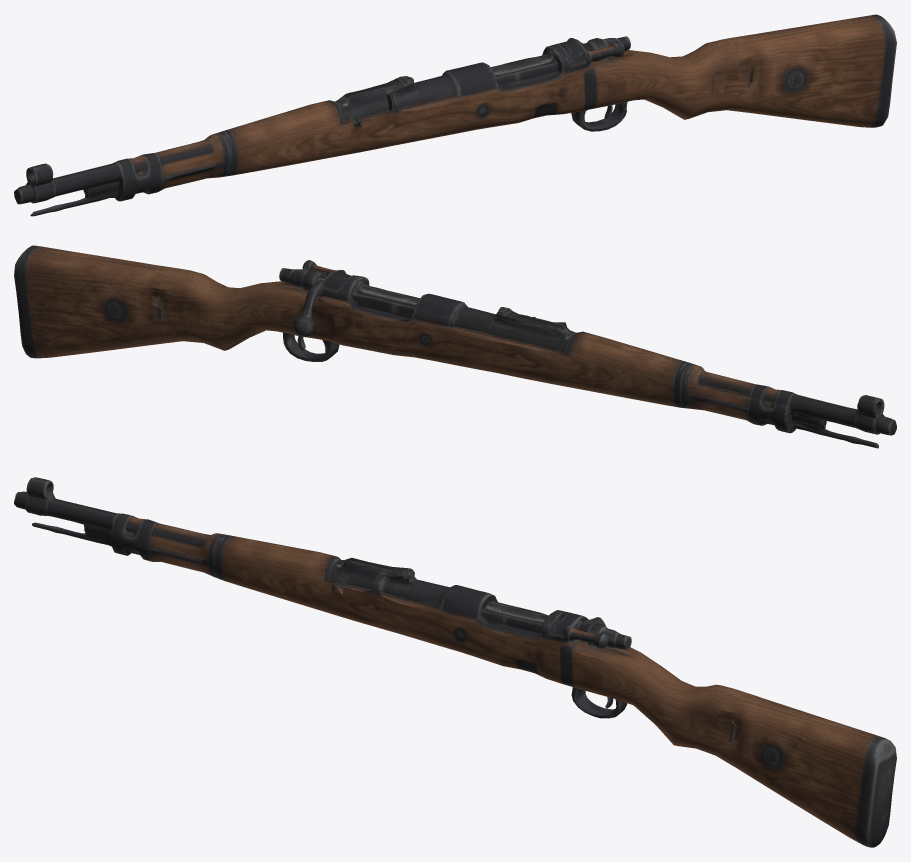
File: Meshy_AI_Create_a_game_ready_l_0924073935_texture.fbx
3 renders of one model, top to bottom at view 1: azimuth 30°, elevation 25°; view 2: azimuth 150°, elevation 25°; view 3: azimuth 330°, elevation 25°, orthographic.
Parts seen in each view (by area): view 1: Mesh0; view 2: Mesh0; view 3: Mesh0.
Boxes of the visible parts, <box> form: Mesh0: <box>14,14,896,216</box>; Mesh0: <box>14,245,896,448</box>; Mesh0: <box>14,477,896,847</box>.
Bounding box in the file's own units: 192 × 34.12 × 15.28.
Materials: 1 (1 with a texture image).
